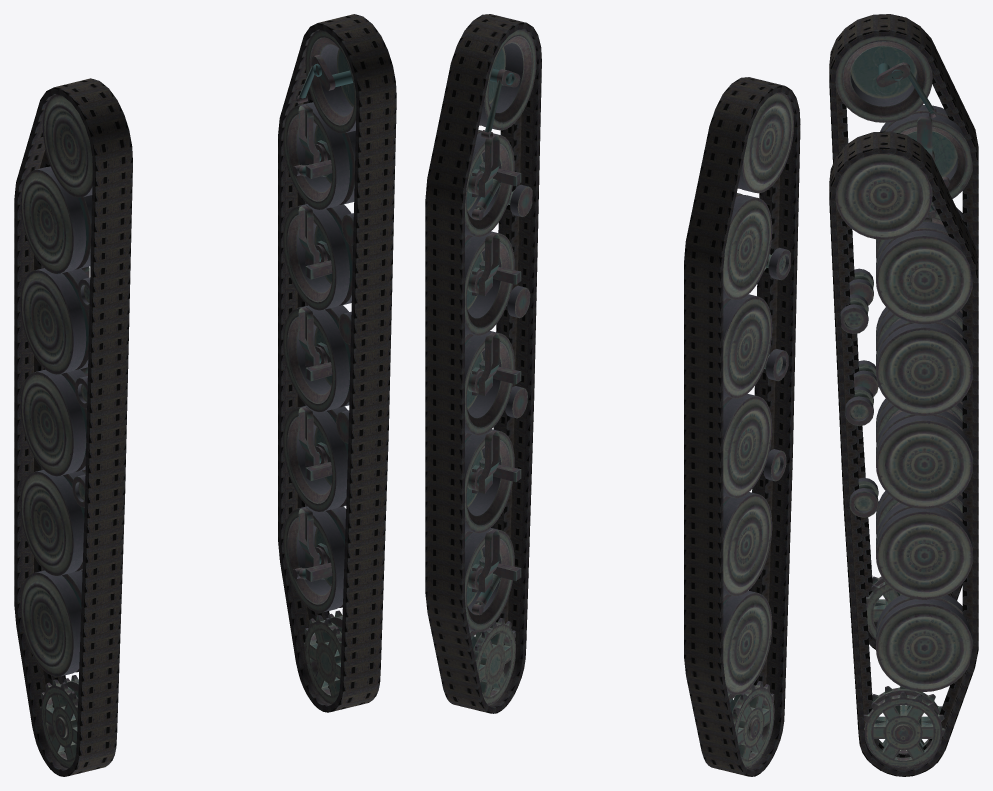
Rendered from Chassis.glb.
3 renders of one model, left to right at view 1: azimuth 30°, elevation 25°; view 2: azimuth 150°, elevation 25°; view 3: azimuth 270°, elevation 25°, orthographic. The views are drawn at different scales.
Visible parts, largest first — view 1: set_3_group_0, set_0_group_0, set_2_group_0, set_1_group_0; view 2: set_3_group_0, set_2_group_0, set_0_group_0, set_1_group_0; view 3: set_0_group_0, set_2_group_0, set_1_group_0, set_3_group_0.
Part boxes in pixels (x1,y1,x2,y2): set_3_group_0: (14,78,132,776); set_0_group_0: (283,30,356,703); set_2_group_0: (278,14,396,712); set_1_group_0: (20,94,92,768); set_3_group_0: (684,77,800,776); set_2_group_0: (425,14,541,713); set_0_group_0: (465,29,536,705); set_1_group_0: (723,92,793,768); set_0_group_0: (835,153,972,768); set_2_group_0: (829,131,978,776); set_1_group_0: (835,36,972,639); set_3_group_0: (829,14,978,649).
Size of the model in its own units: 3.25 by 7.12 by 1.53.
Materials: 4 (4 with a texture image).
